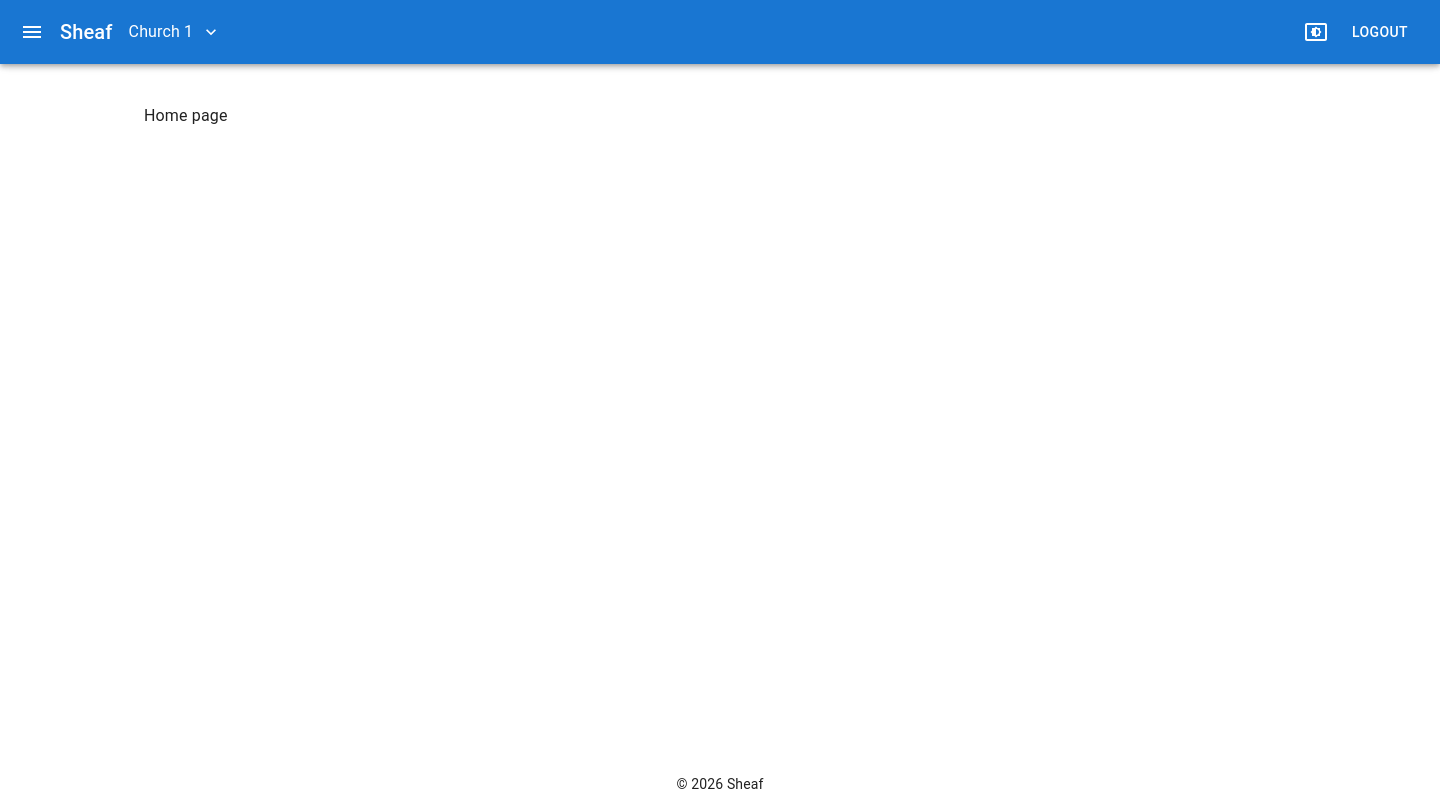
Test: Layout › Layout_SignedInToSeveralChurches_SwitchesToChosenChurch
Step 1. Click the button with aria-label "Church 1, switch church" → click(173, 32), box [121, 12, 225, 52]
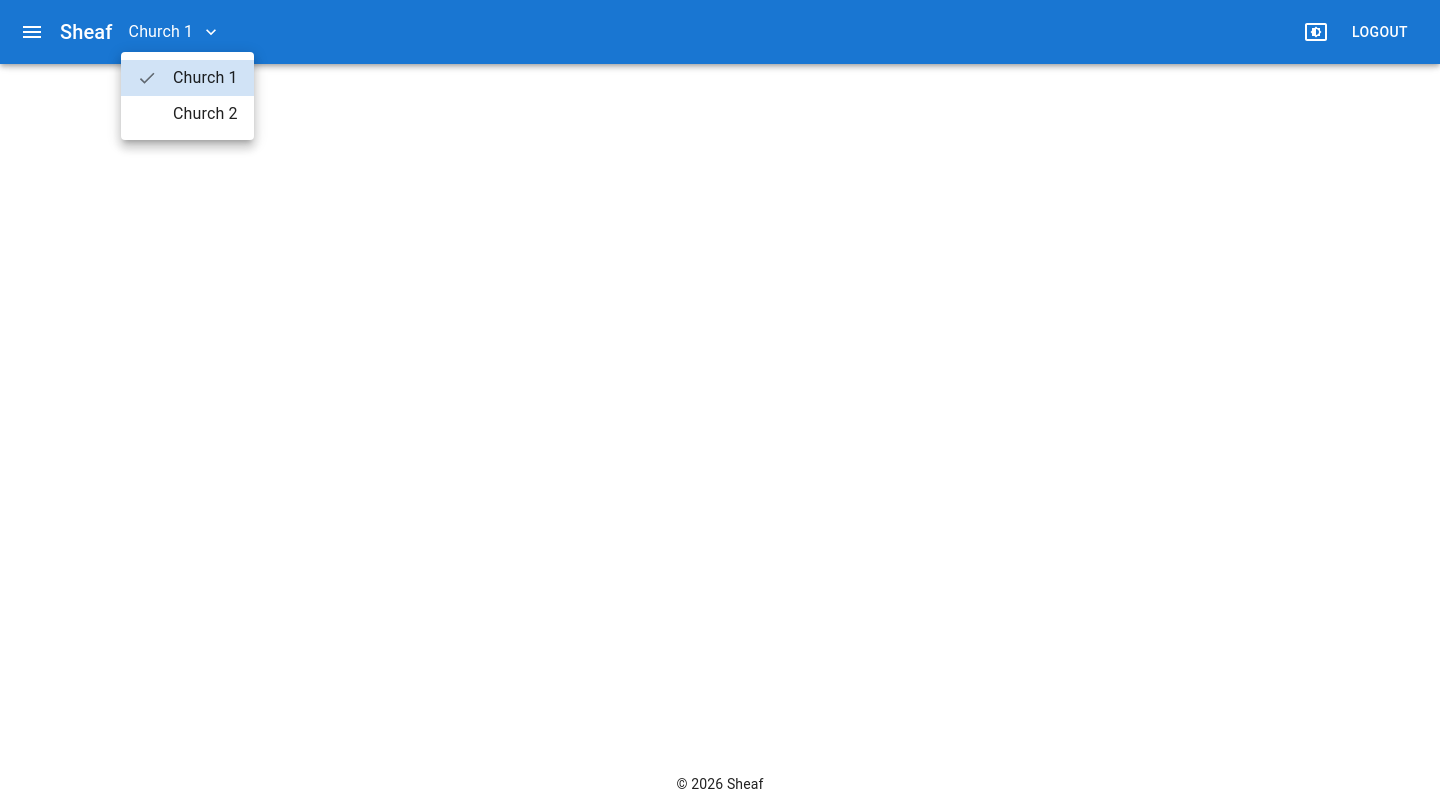
Step 2. Click the menu item "Church 2" → click(205, 114), box [173, 104, 238, 123]
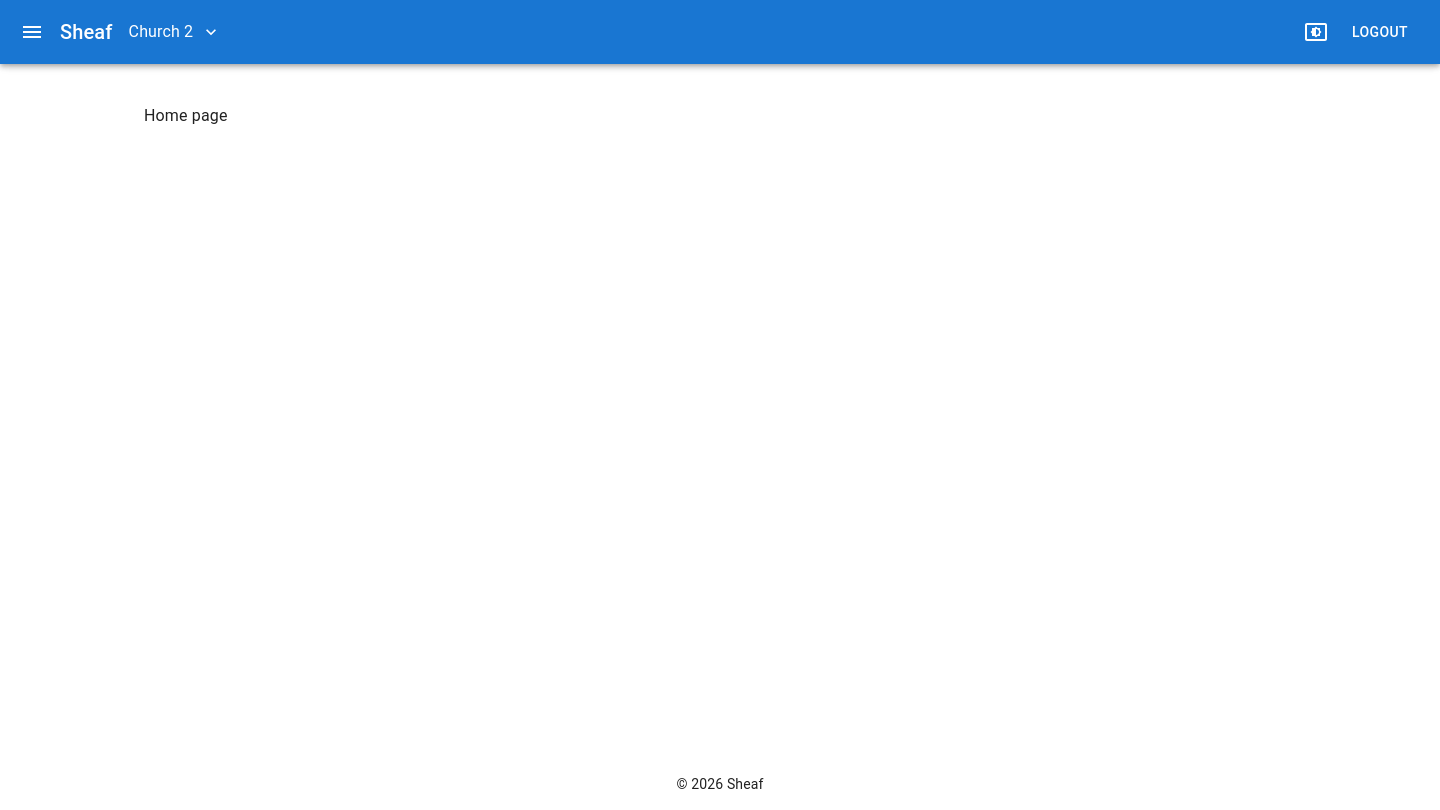
Check: the button with aria-label "Church 2, switch church" is shown, box [121, 12, 225, 52]
